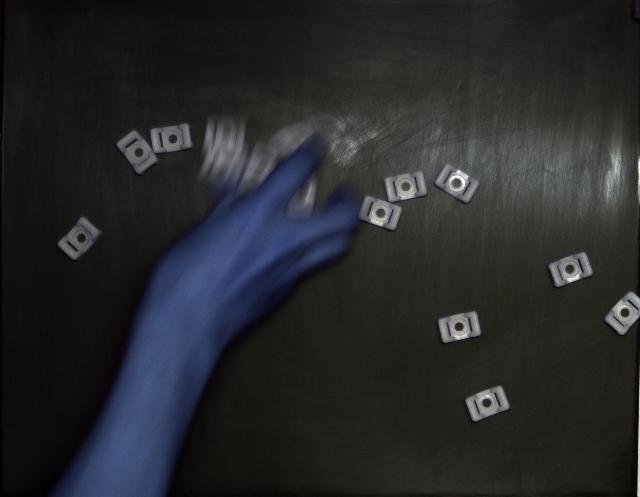first_side: (116, 130, 159, 175), (58, 218, 102, 260), (435, 164, 480, 204), (465, 386, 510, 422), (549, 253, 592, 288), (359, 196, 402, 231), (438, 311, 481, 344), (385, 171, 428, 202), (150, 124, 192, 154)
